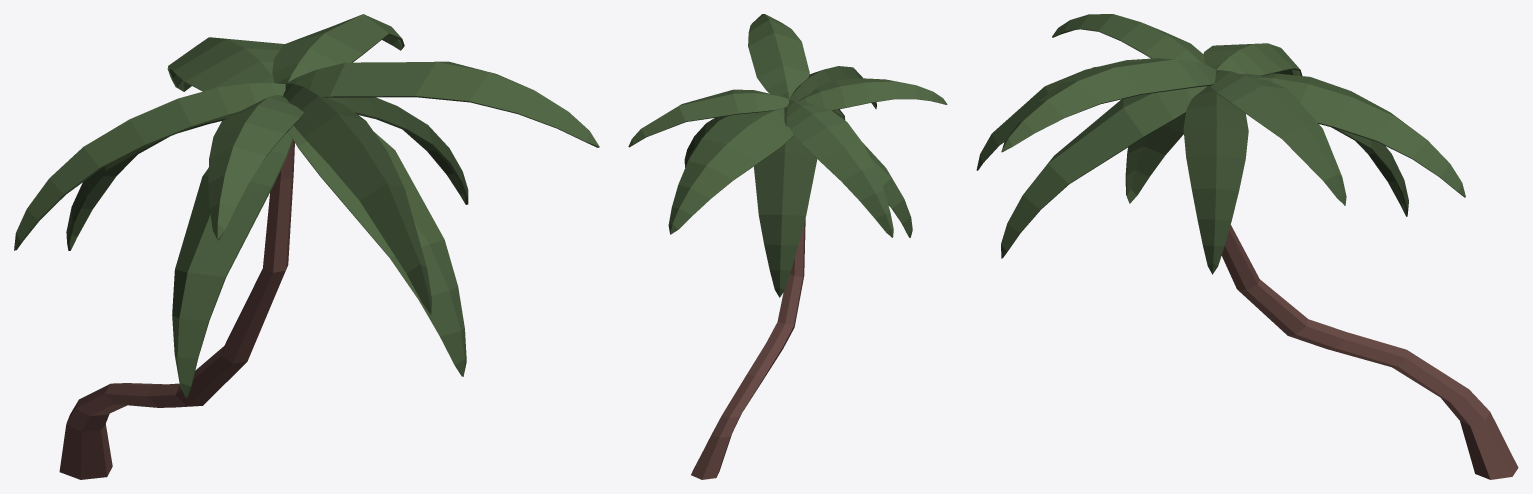
The model's file is PalmTree_2.glb.
3 views of the same model, side by side, from view 1: azimuth 30°, elevation 25°; view 2: azimuth 150°, elevation 25°; view 3: azimuth 270°, elevation 25° (orthographic). The views are drawn at different scales.
Parts seen in each view (by area): view 1: PalmTree_2_Cylinder.039; view 2: PalmTree_2_Cylinder.039; view 3: PalmTree_2_Cylinder.039.
Part boxes in pixels (left/top/right/bottom): PalmTree_2_Cylinder.039: left=14, top=14, right=599, bottom=479; PalmTree_2_Cylinder.039: left=628, top=14, right=947, bottom=479; PalmTree_2_Cylinder.039: left=976, top=14, right=1518, bottom=479.
Size of the model in its own units: 2.32 by 2.91 by 3.18.
